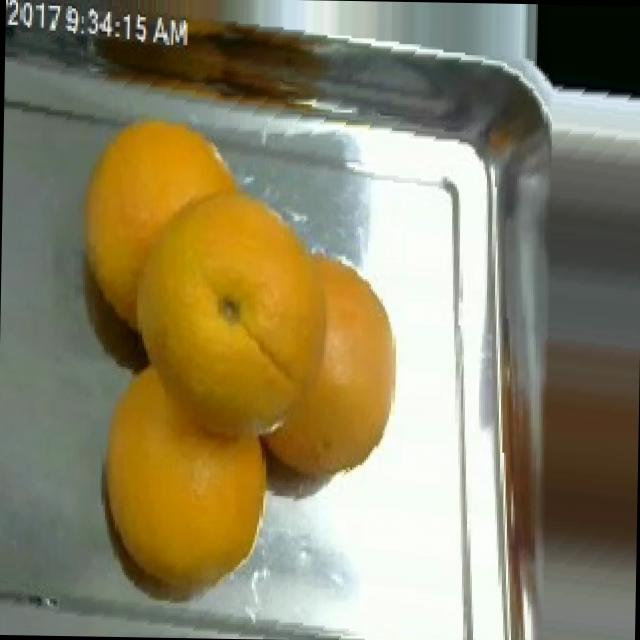Fruit: (56, 95, 252, 302), (515, 3, 640, 107)
